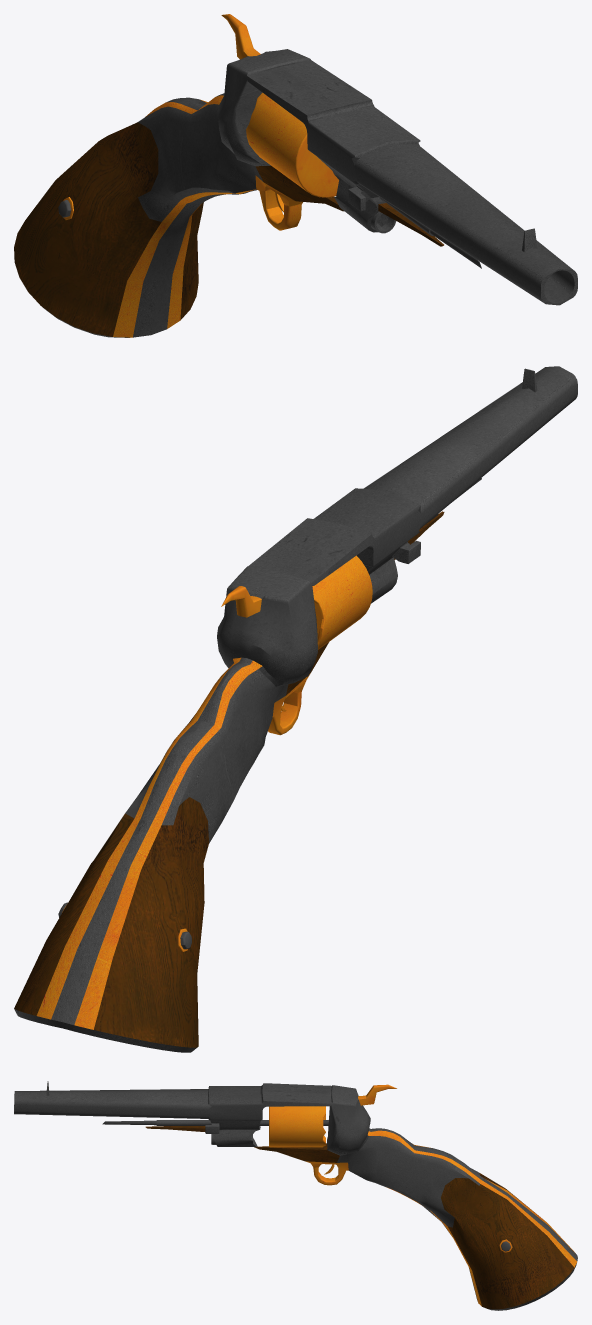
Rendered from 3D Steampunk Themed Pistol - Low Poly.fbx.
3 renders of one model, top to bottom at view 1: azimuth 30°, elevation 25°; view 2: azimuth 150°, elevation 25°; view 3: azimuth 270°, elevation 25°, orthographic. The views are drawn at different scales.
Visible parts, largest first — view 1: 1889 Pistol, Barrel, Shaft Nosile; view 2: 1889 Pistol, Barrel; view 3: 1889 Pistol, Barrel, Shaft Nosile.
Boxes of the visible parts, box(x1,y1,x2,y2) form: 1889 Pistol: box(14, 14, 577, 337); Barrel: box(246, 92, 338, 197); Shaft Nosile: box(379, 197, 481, 268); 1889 Pistol: box(14, 366, 577, 1052); Barrel: box(312, 555, 372, 649); 1889 Pistol: box(14, 1081, 577, 1310); Barrel: box(269, 1106, 325, 1147); Shaft Nosile: box(102, 1120, 328, 1125).
Bounding box in the file's own units: 28.45 × 64.54 × 151.
